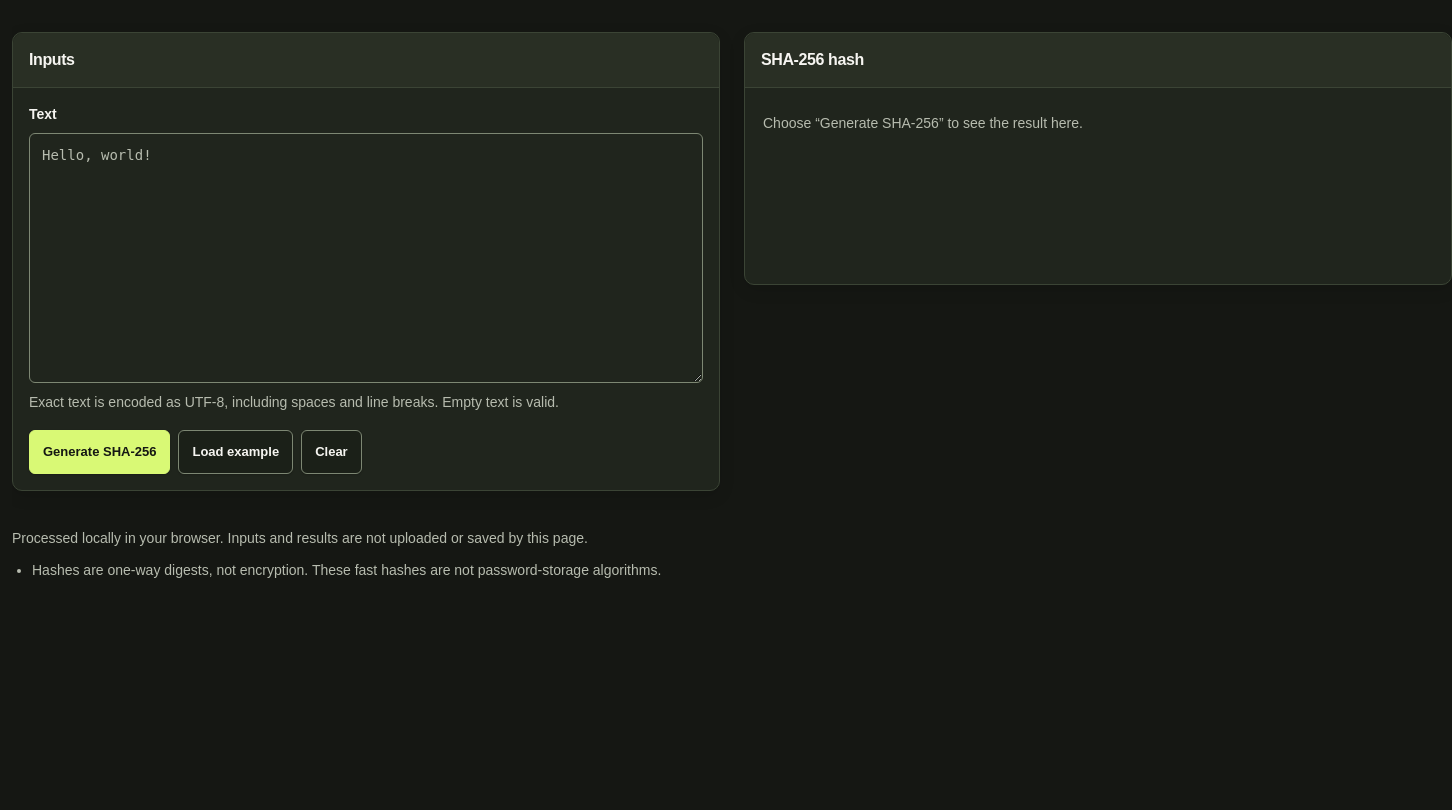
Test: Security dark DOM theme (not visual proof) › sha-256-generator has only contracted controls, keyboard actions, exact copies and no transmission
Press Tab
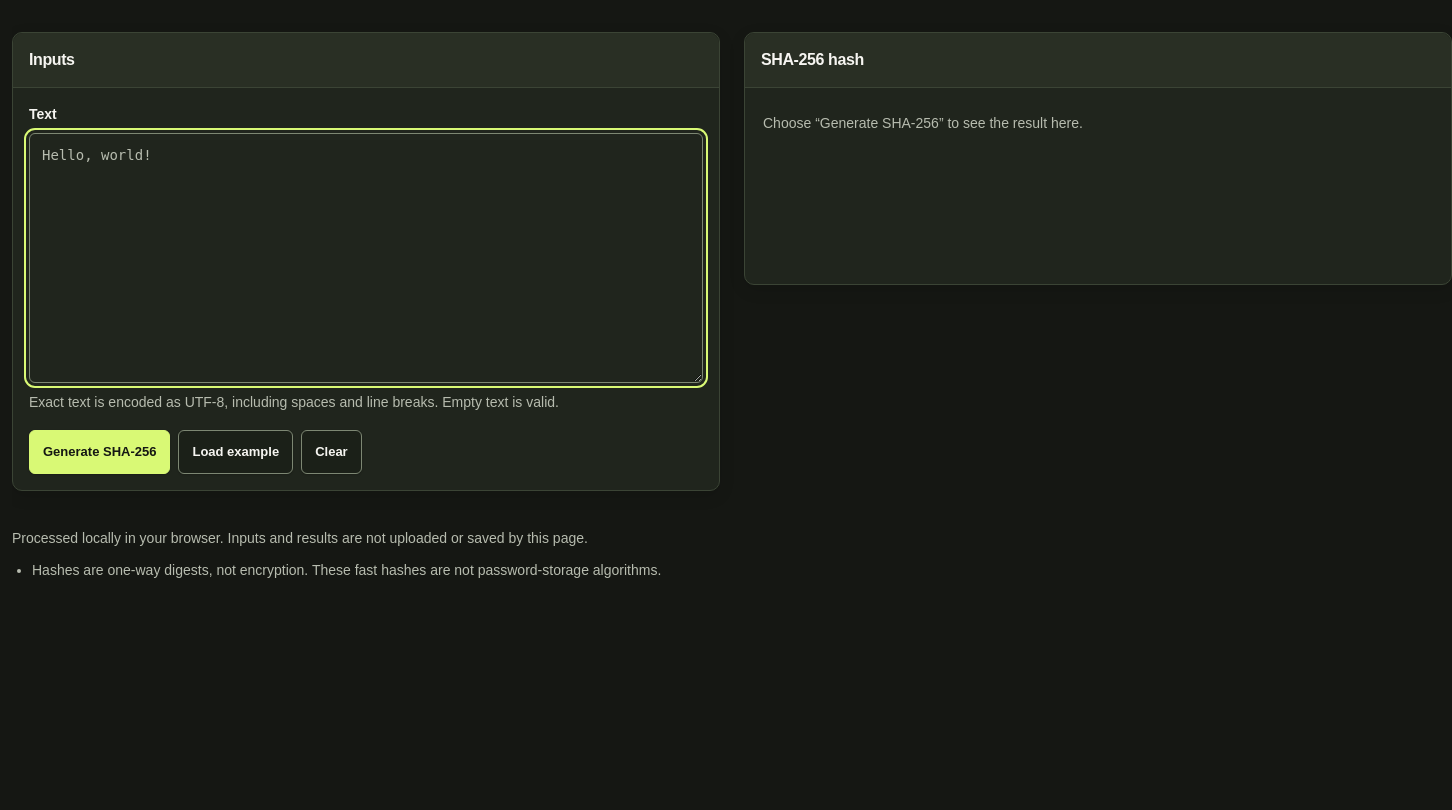
Click the button "Load example" at [236, 452], box [178, 430, 293, 474]
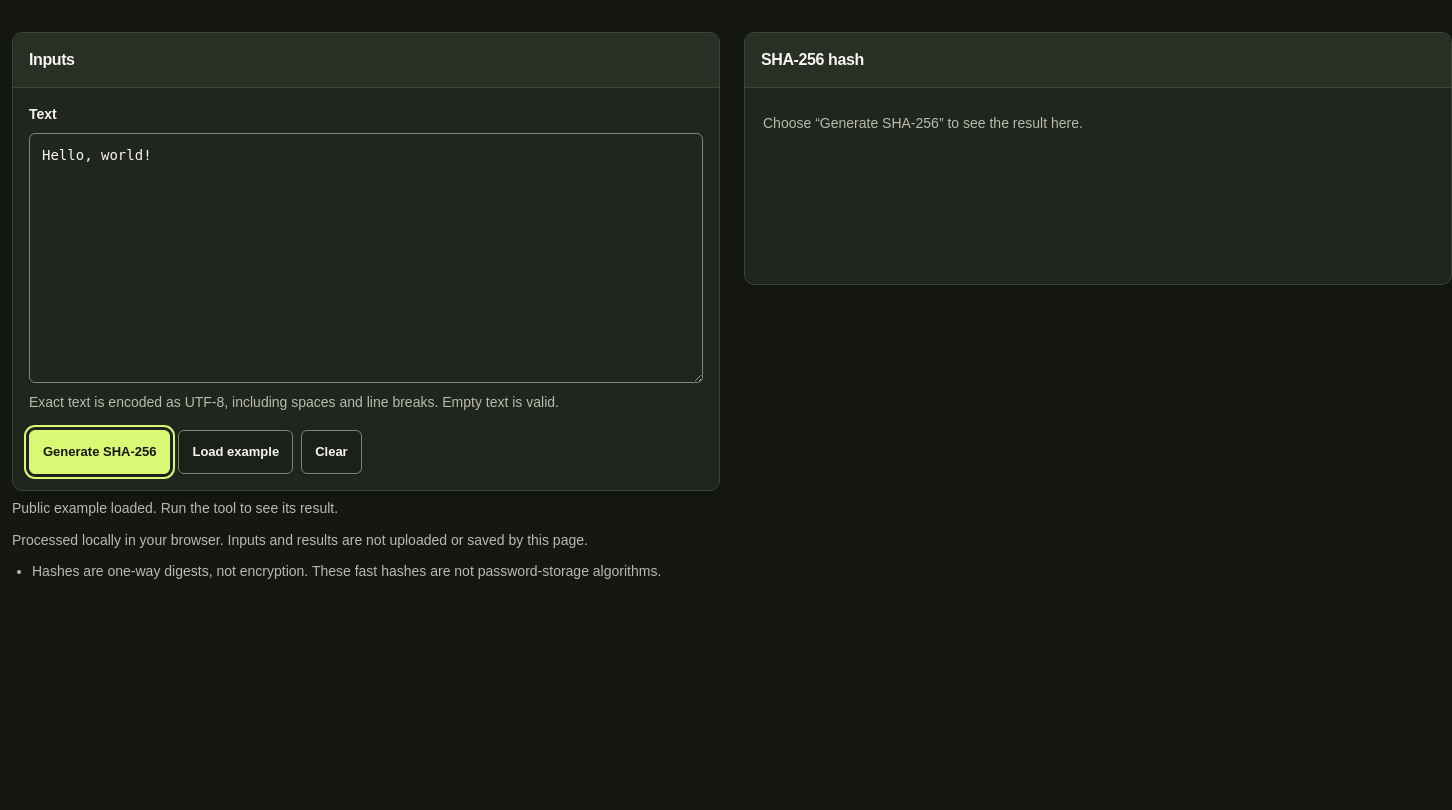
Press Enter
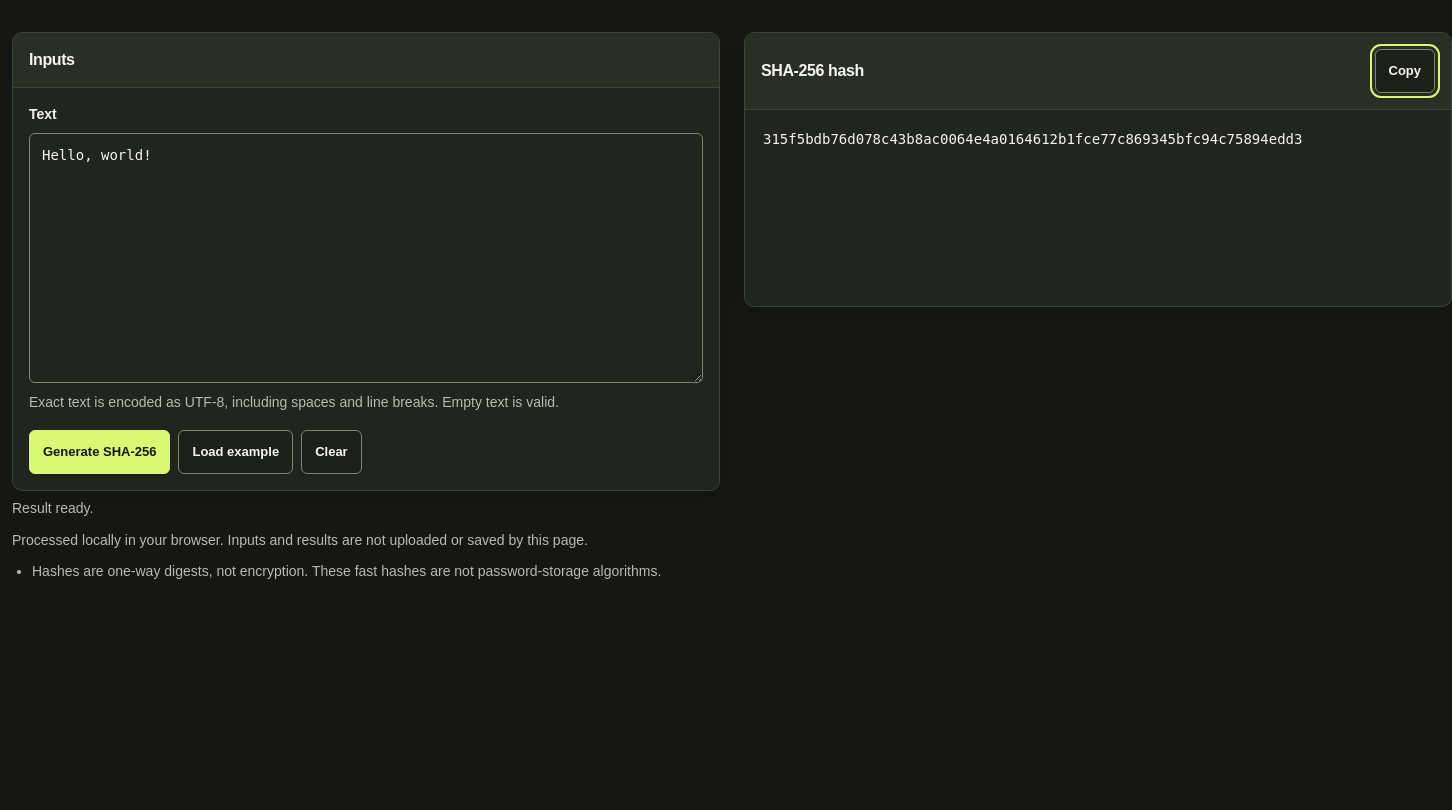
Press Enter
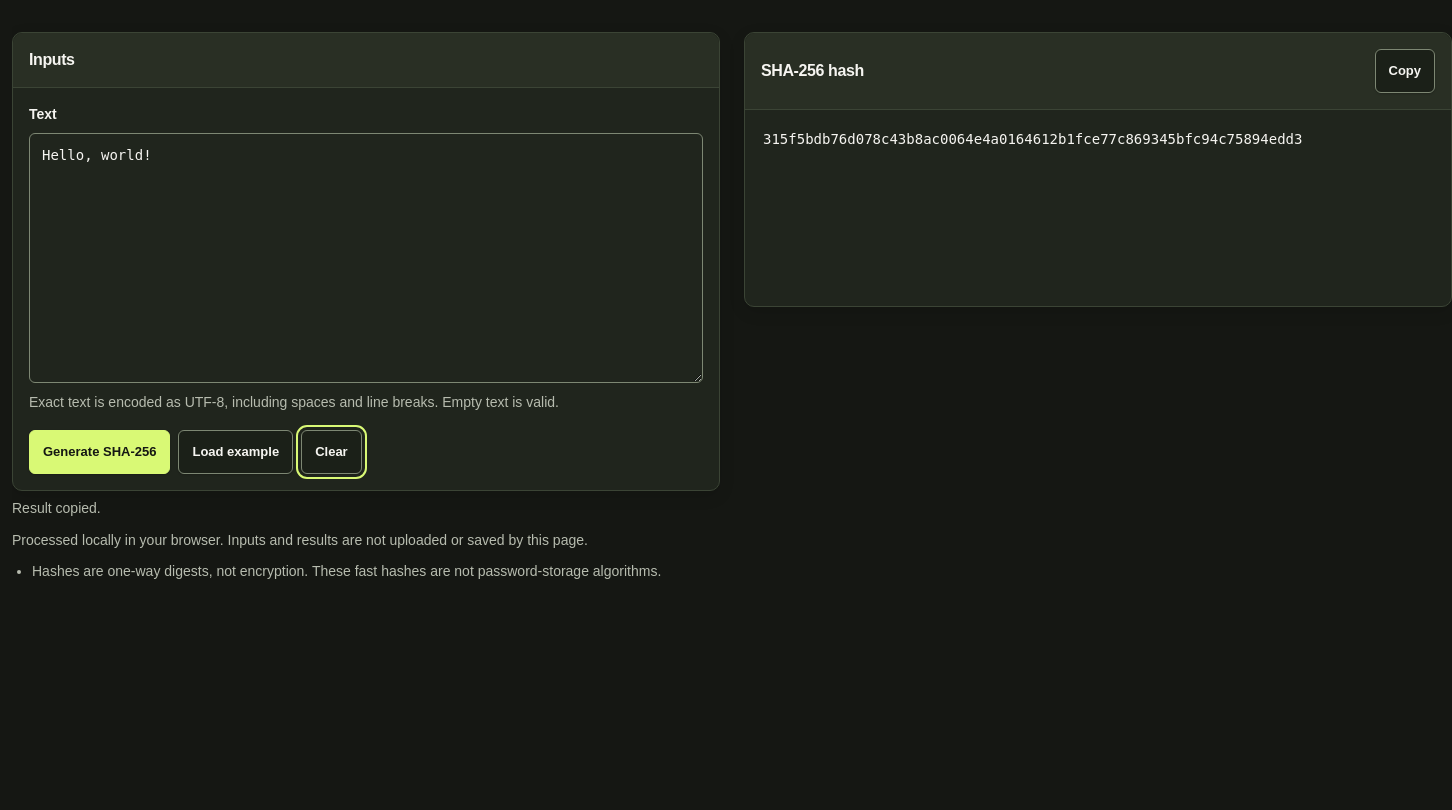
Press Enter
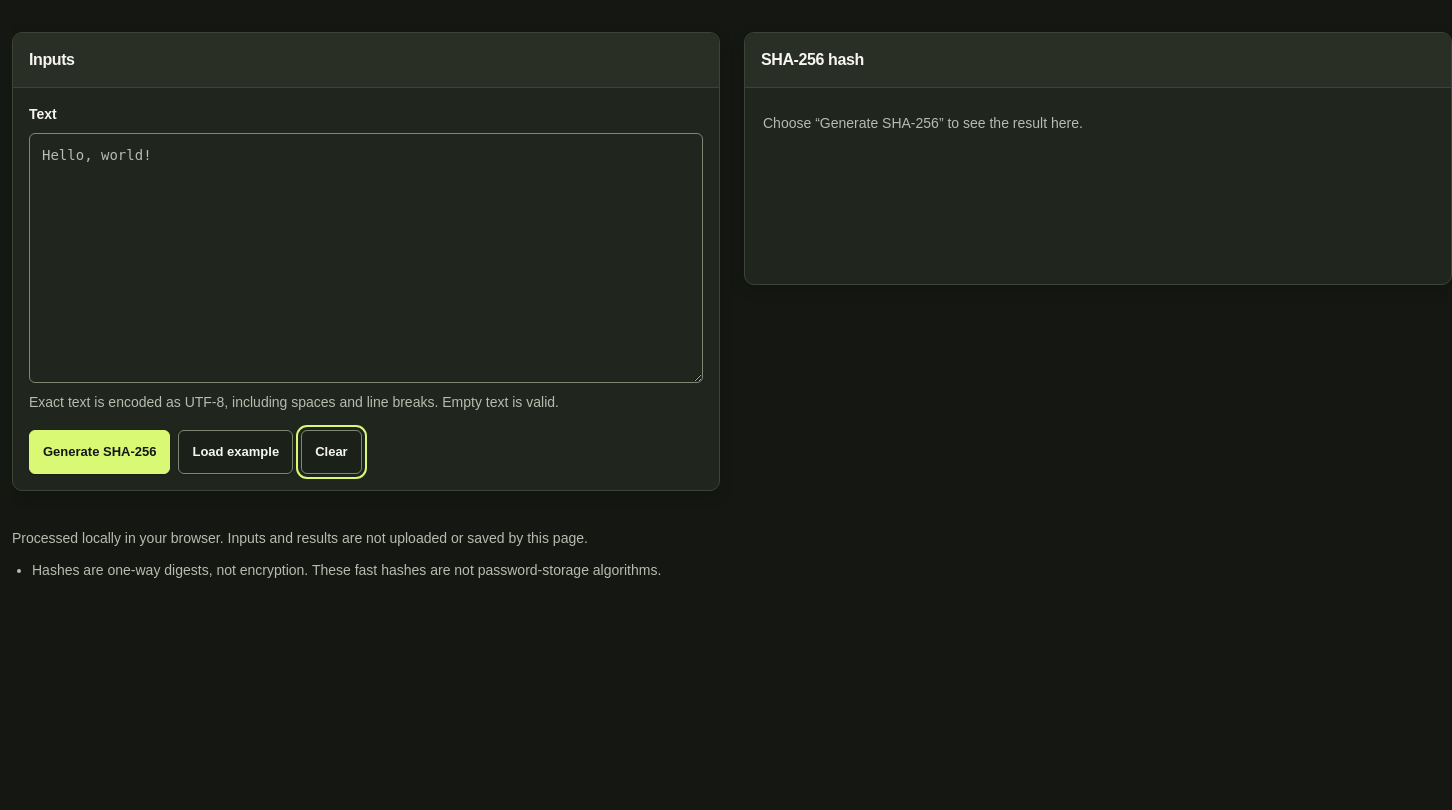
Now the text box labelled "Text" is empty, box [29, 133, 703, 383]
Now the button "Copy" is gone
